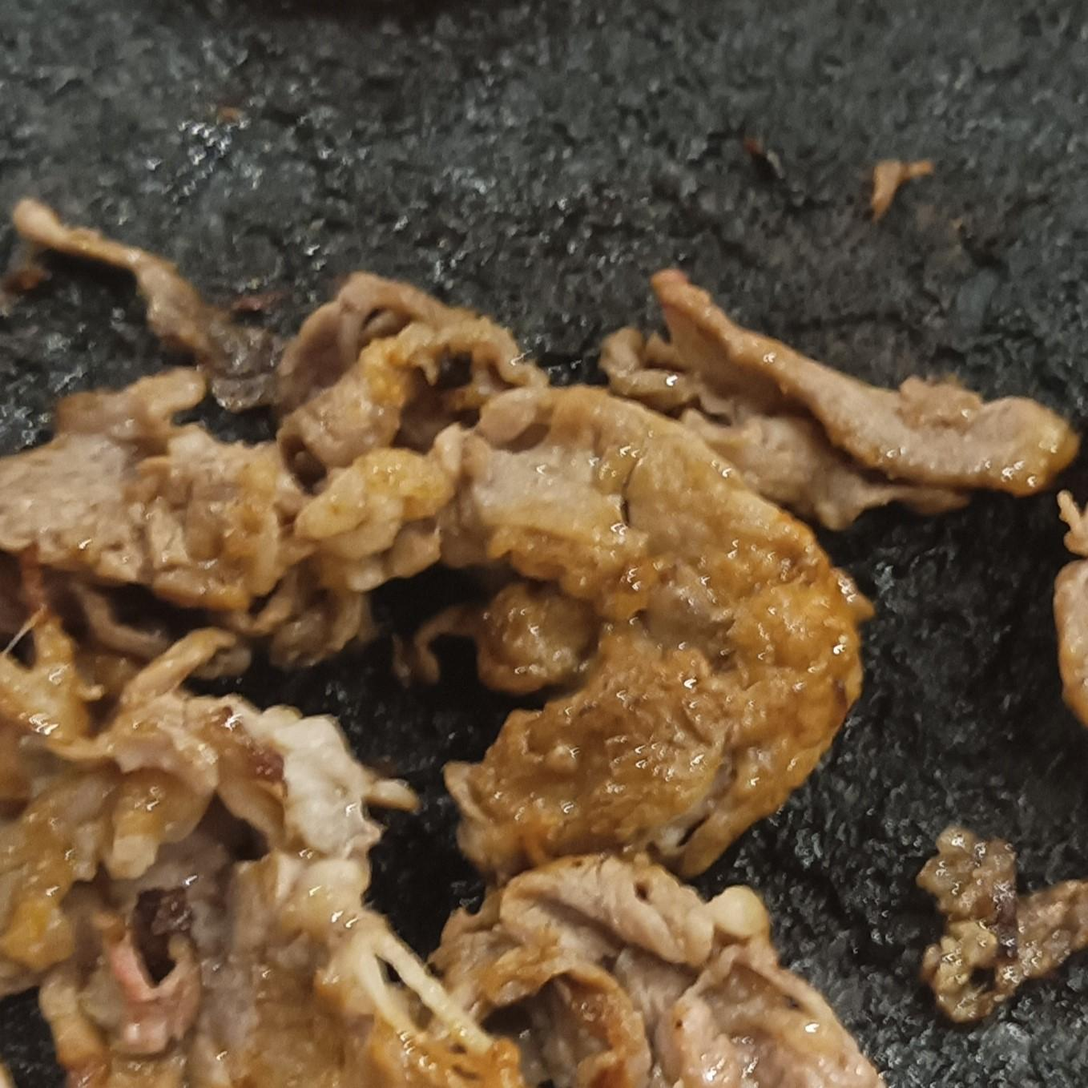Overcooked: (915, 828, 1087, 1034)
Well-Cooked: (0, 200, 1082, 1087)
